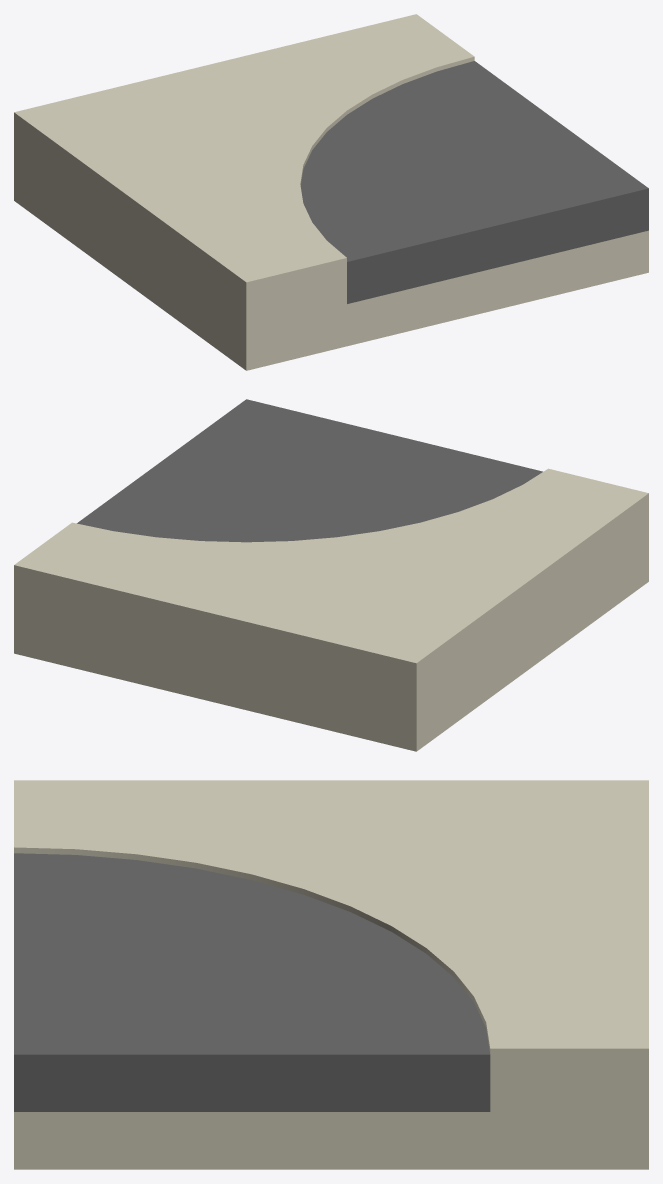
File: roadTile_073.obj
The picture shows the model from 3 angles, top to bottom: view 1: azimuth 30°, elevation 25°; view 2: azimuth 150°, elevation 25°; view 3: azimuth 270°, elevation 25°; orthographic projection. The views are drawn at different scales.
Visible parts, largest first — view 1: Mesh1_Group1_Model.287; view 2: Mesh1_Group1_Model.287; view 3: Mesh1_Group1_Model.287.
Boxes of the visible parts, box(x1,y1,x2,y2) form: Mesh1_Group1_Model.287: box(14, 14, 648, 370); Mesh1_Group1_Model.287: box(14, 399, 648, 751); Mesh1_Group1_Model.287: box(14, 780, 648, 1169).
Size of the model in its own units: 3 by 0.63 by 3.
